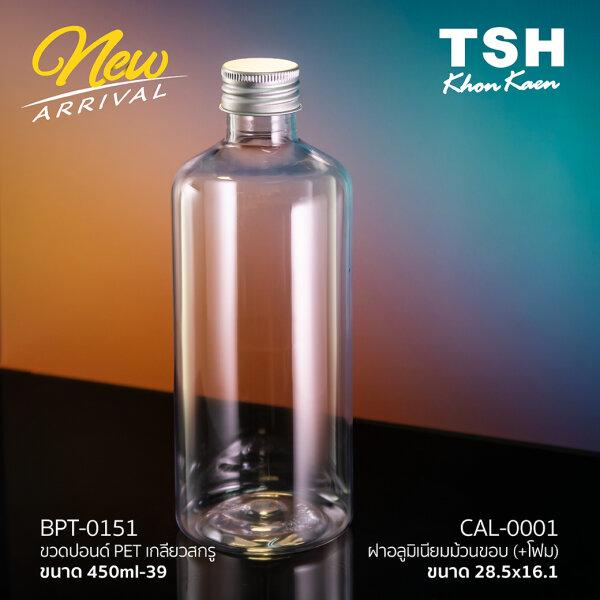glass_bottle: (170, 52, 360, 561)
